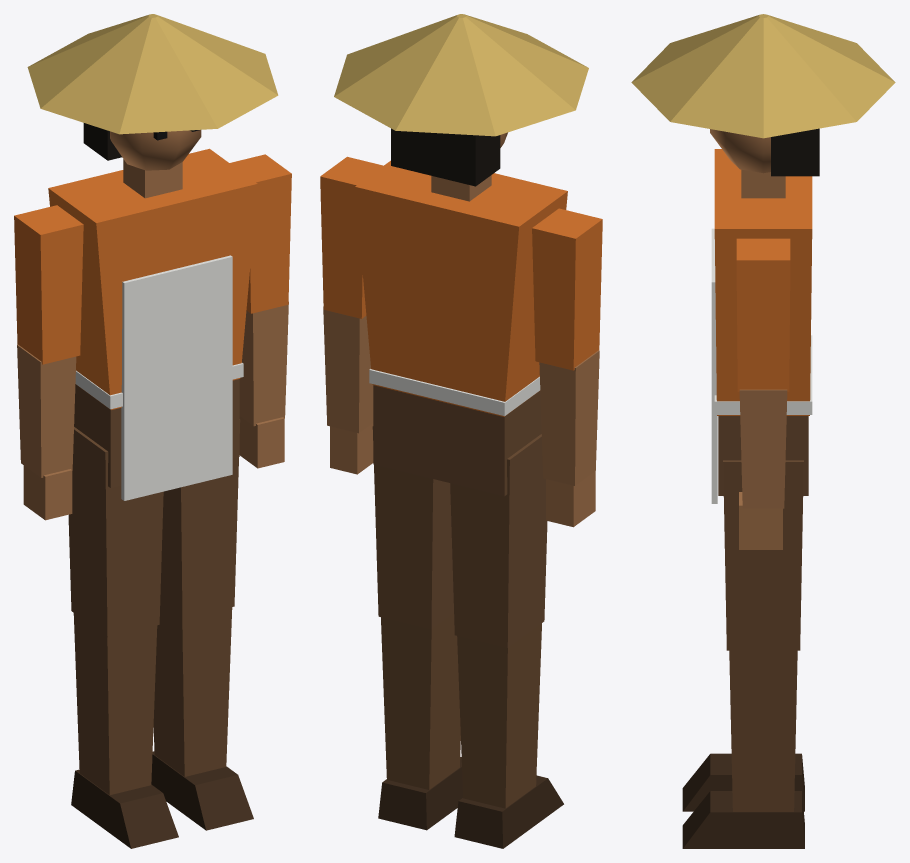
File: npc_pedagang.glb
The picture shows the model from 3 angles, left to right: view 1: azimuth 30°, elevation 25°; view 2: azimuth 150°, elevation 25°; view 3: azimuth 270°, elevation 25°; orthographic projection.
Visible parts, largest first — view 1: torso, leg_r, leg_l, head, arm_r, arm_l; view 2: torso, leg_r, head, leg_l, arm_r, arm_l; view 3: leg_l, head, torso, arm_l, leg_r.
Boxes of the visible parts, x1,y1,x2,y2 form: torso: (48, 148, 257, 500); leg_r: (68, 427, 178, 848); leg_l: (151, 419, 253, 830); head: (27, 14, 278, 170); arm_r: (14, 205, 83, 520); arm_l: (229, 154, 291, 468); torso: (355, 160, 567, 496); leg_r: (450, 434, 563, 848); head: (334, 14, 588, 186); leg_l: (372, 426, 462, 830); arm_r: (532, 208, 602, 527); arm_l: (320, 156, 383, 474); leg_l: (682, 460, 804, 848); head: (631, 14, 895, 176); torso: (711, 149, 812, 503); arm_l: (736, 238, 790, 549); leg_r: (682, 753, 804, 811).
Size of the model in its own units: 0.6035 by 1.81 by 0.54.
